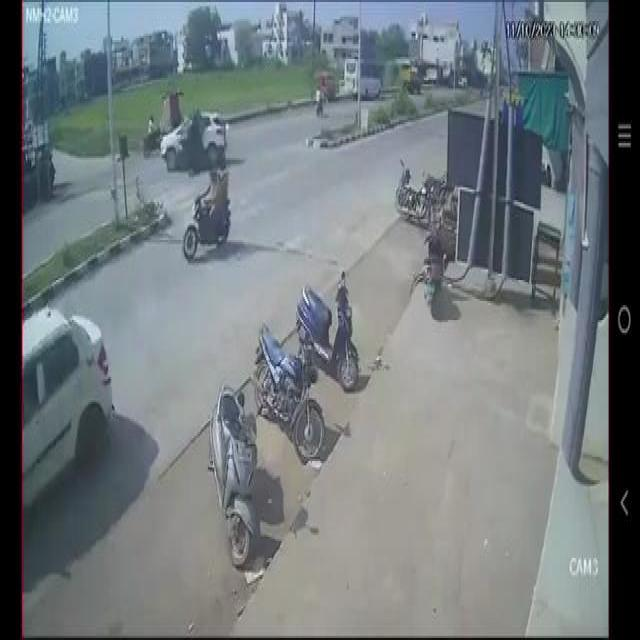accident: (158, 98, 230, 184)
